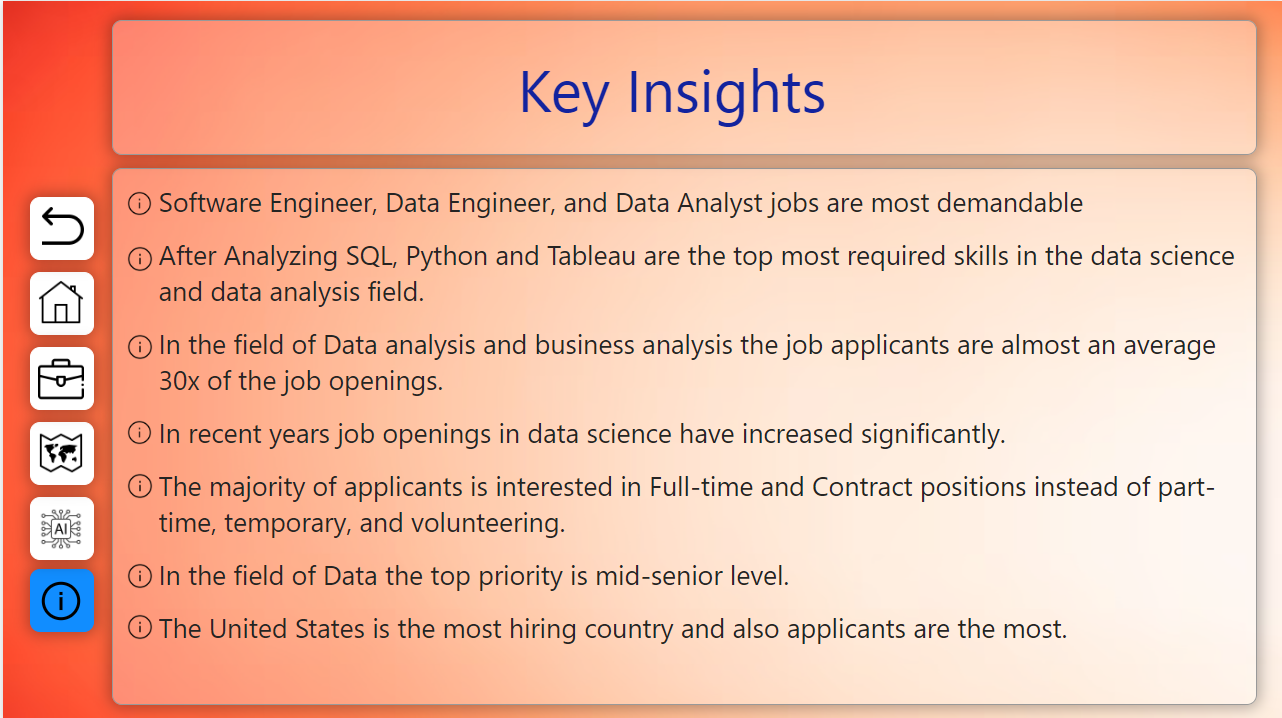

What the dashboard file says about the page in this screenshot:
{"tool":"powerbi","page":{"name":"Insights","canvas":[1280,720],"ordinal":4},"visuals":[{"type":"shape","box":[109.1,167.3,1144.5,536.4],"z":0},{"type":"image","box":[119.1,184.6,35.5,35.5],"z":0,"group":"g3"},{"type":"shape","box":[27.3,495.7,63.8,63],"z":0,"group":"g4"},{"type":"shape","box":[27,567.5,63.6,62.7],"z":0,"group":"g1"},{"type":"textbox","box":[151.1,176.7,1111.1,540],"z":1000,"group":"g3"},{"type":"shape","box":[27.3,420.8,63.8,63],"z":1000,"group":"g5"},{"type":"group","id":"g1","title":"Group 15","box":[27,567.5,63.6,62.7],"z":1000},{"type":"actionButton","box":[33.3,574,50,51],"z":1000,"group":"g1"},{"type":"group","id":"g2","title":"Group 1","box":[109.2,18.8,1144.5,135.5],"z":2000},{"type":"shape","box":[109.2,18.8,1144.5,135.5],"z":2000,"group":"g2"},{"type":"image","box":[118.9,240,35.6,35.6],"z":2000,"group":"g3"},{"type":"shape","box":[27.3,345.8,63.8,63],"z":2000,"group":"g8"},{"type":"group","id":"g3","title":"Group 2","box":[118.9,176.7,1143.3,540],"z":3000},{"type":"shape","box":[27.3,270.9,63.8,63],"z":3000,"group":"g6"},{"type":"image","box":[118.9,327.8,35.6,35.6],"z":3000,"group":"g3"},{"type":"shape","box":[27.3,196,63.8,63],"z":4000,"group":"g7"},{"type":"image","box":[118.9,413.4,35.6,35.6],"z":4000,"group":"g3"},{"type":"group","id":"g4","title":"Group 9","box":[27.3,495.7,63.8,63],"z":4000},{"type":"textbox","box":[510,42.7,357.3,92.7],"z":5000,"group":"g2"},{"type":"group","id":"g5","title":"Group 10","box":[27.3,420.8,63.8,63],"z":5000},{"type":"image","box":[118.9,466.7,35.6,35.6],"z":5000,"group":"g3"},{"type":"group","id":"g6","title":"Group 12","box":[27.3,270.9,63.8,137.9],"z":6000},{"type":"image","box":[118.9,556.7,35.6,35.6],"z":6000,"group":"g3"},{"type":"group","id":"g7","title":"Group 2","box":[27.3,196,63.8,63],"z":7000},{"type":"image","box":[118.9,607.8,35.6,35.6],"z":7000,"group":"g3"},{"type":"actionButton","box":[31.3,350.3,58.2,54.1],"z":21000,"group":"g8"},{"type":"image","box":[32.2,201.1,55.6,52.2],"z":22000,"group":"g7"},{"type":"actionButton","box":[31.5,425.3,58,54],"z":24000,"group":"g5"},{"type":"actionButton","box":[31.5,275.2,58,54],"z":25000,"group":"g6"},{"type":"actionButton","box":[31.5,500.2,58,54],"z":26000,"group":"g4"},{"type":"group","id":"g8","title":"Group 11","box":[27.3,345.8,63.8,63],"z":26003,"group":"g6"}]}

Visuals, with their boxes in screenshot pixels (x1, y1, x2, y2), scaled from the page's 1280x720 canvas onto the 1282x718 screenshot:
shape: {"left": 109, "top": 167, "right": 1256, "bottom": 702}
image: {"left": 119, "top": 184, "right": 155, "bottom": 219}
shape: {"left": 27, "top": 494, "right": 91, "bottom": 557}
shape: {"left": 27, "top": 566, "right": 91, "bottom": 628}
textbox: {"left": 151, "top": 176, "right": 1264, "bottom": 715}
shape: {"left": 27, "top": 420, "right": 91, "bottom": 482}
"Group 15" group: {"left": 27, "top": 566, "right": 91, "bottom": 628}
actionButton: {"left": 33, "top": 572, "right": 83, "bottom": 623}
"Group 1" group: {"left": 109, "top": 19, "right": 1256, "bottom": 154}
shape: {"left": 109, "top": 19, "right": 1256, "bottom": 154}
image: {"left": 119, "top": 239, "right": 155, "bottom": 275}
shape: {"left": 27, "top": 345, "right": 91, "bottom": 408}
"Group 2" group: {"left": 119, "top": 176, "right": 1264, "bottom": 715}
shape: {"left": 27, "top": 270, "right": 91, "bottom": 333}
image: {"left": 119, "top": 327, "right": 155, "bottom": 362}
shape: {"left": 27, "top": 195, "right": 91, "bottom": 258}
image: {"left": 119, "top": 412, "right": 155, "bottom": 448}
"Group 9" group: {"left": 27, "top": 494, "right": 91, "bottom": 557}
textbox: {"left": 511, "top": 43, "right": 869, "bottom": 135}
"Group 10" group: {"left": 27, "top": 420, "right": 91, "bottom": 482}
image: {"left": 119, "top": 465, "right": 155, "bottom": 501}
"Group 12" group: {"left": 27, "top": 270, "right": 91, "bottom": 408}
image: {"left": 119, "top": 555, "right": 155, "bottom": 591}
"Group 2" group: {"left": 27, "top": 195, "right": 91, "bottom": 258}
image: {"left": 119, "top": 606, "right": 155, "bottom": 642}
actionButton: {"left": 31, "top": 349, "right": 90, "bottom": 403}
image: {"left": 32, "top": 201, "right": 88, "bottom": 253}
actionButton: {"left": 32, "top": 424, "right": 90, "bottom": 478}
actionButton: {"left": 32, "top": 274, "right": 90, "bottom": 328}
actionButton: {"left": 32, "top": 499, "right": 90, "bottom": 553}
"Group 11" group: {"left": 27, "top": 345, "right": 91, "bottom": 408}
